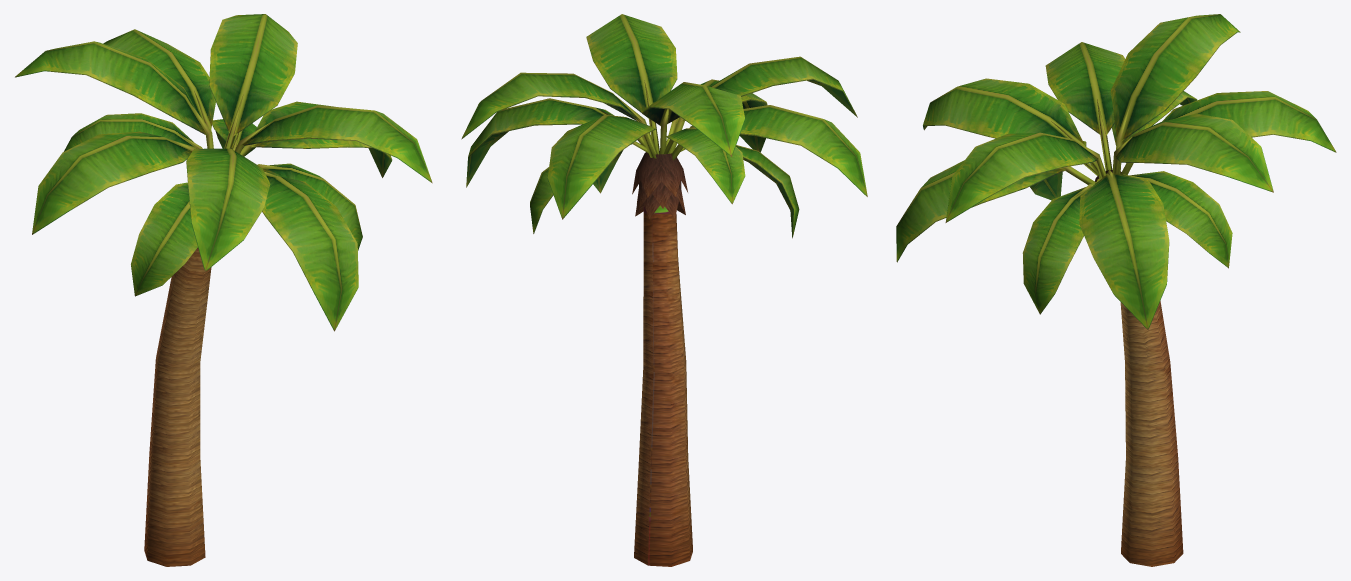
File: palm1.fbx
The picture shows the model from 3 angles, left to right: view 1: azimuth 30°, elevation 25°; view 2: azimuth 150°, elevation 25°; view 3: azimuth 270°, elevation 25°; orthographic projection. The views are drawn at different scales.
Parts seen in each view (by area): view 1: Pot_Palmtree_02; view 2: Pot_Palmtree_02; view 3: Pot_Palmtree_02.
Boxes of the visible parts, x1=… form: Pot_Palmtree_02: x1=15, y1=14, x2=432, y2=566; Pot_Palmtree_02: x1=461, y1=14, x2=867, y2=566; Pot_Palmtree_02: x1=896, y1=14, x2=1336, y2=566.
Size of the model in its own units: 255 by 327 by 258.
